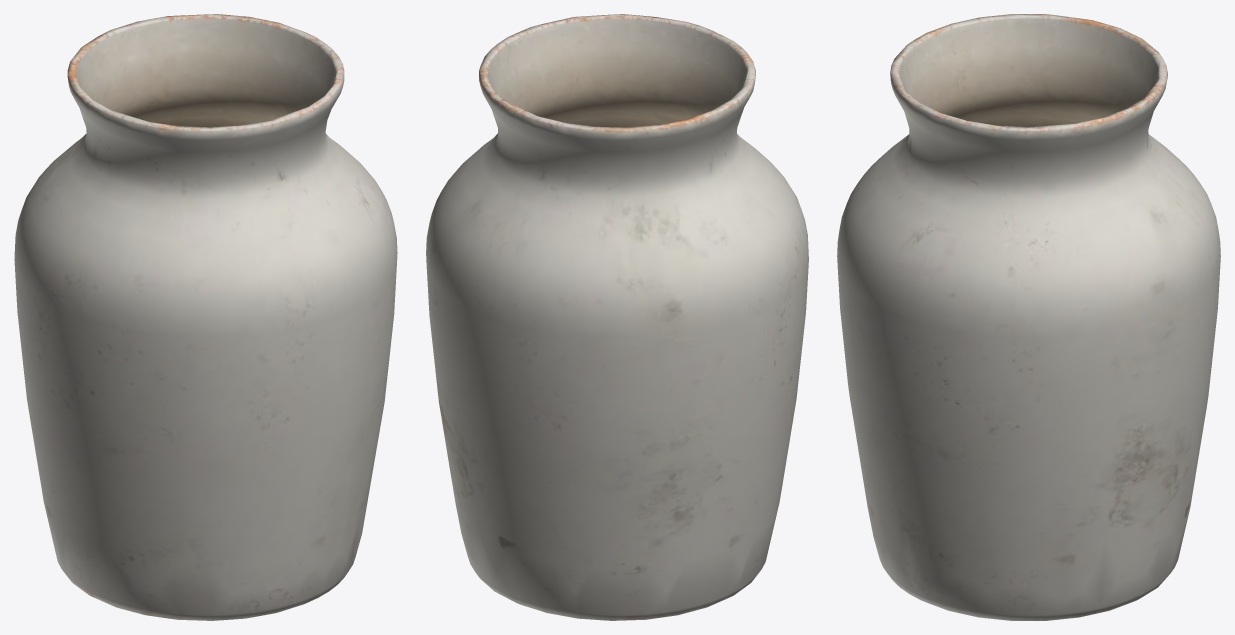
The model's file is vase-clay-round.glb.
The picture shows the model from 3 angles, left to right: view 1: azimuth 30°, elevation 25°; view 2: azimuth 150°, elevation 25°; view 3: azimuth 270°, elevation 25°; orthographic projection.
Visible parts, largest first — view 1: ceramic_vase_02; view 2: ceramic_vase_02; view 3: ceramic_vase_02.
Part boxes in pixels (<box>): ceramic_vase_02: <box>14,14,397,620</box>; ceramic_vase_02: <box>426,14,808,620</box>; ceramic_vase_02: <box>837,14,1220,620</box>.
Bounding box in the file's own units: 0.2184 × 0.3091 × 0.2184.
Materials: 1 (1 with a texture image).
